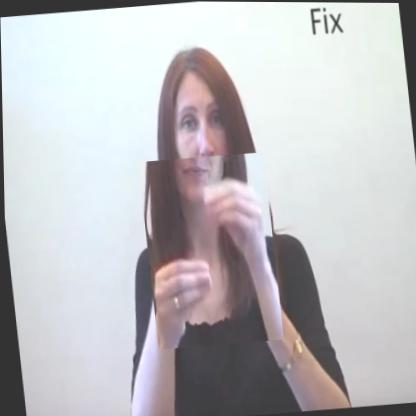Fix: (138, 151, 283, 350)
